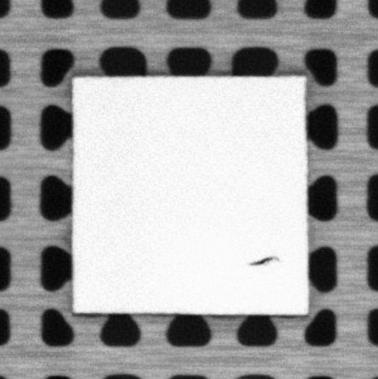DIE_INK: (249, 255, 280, 268)
